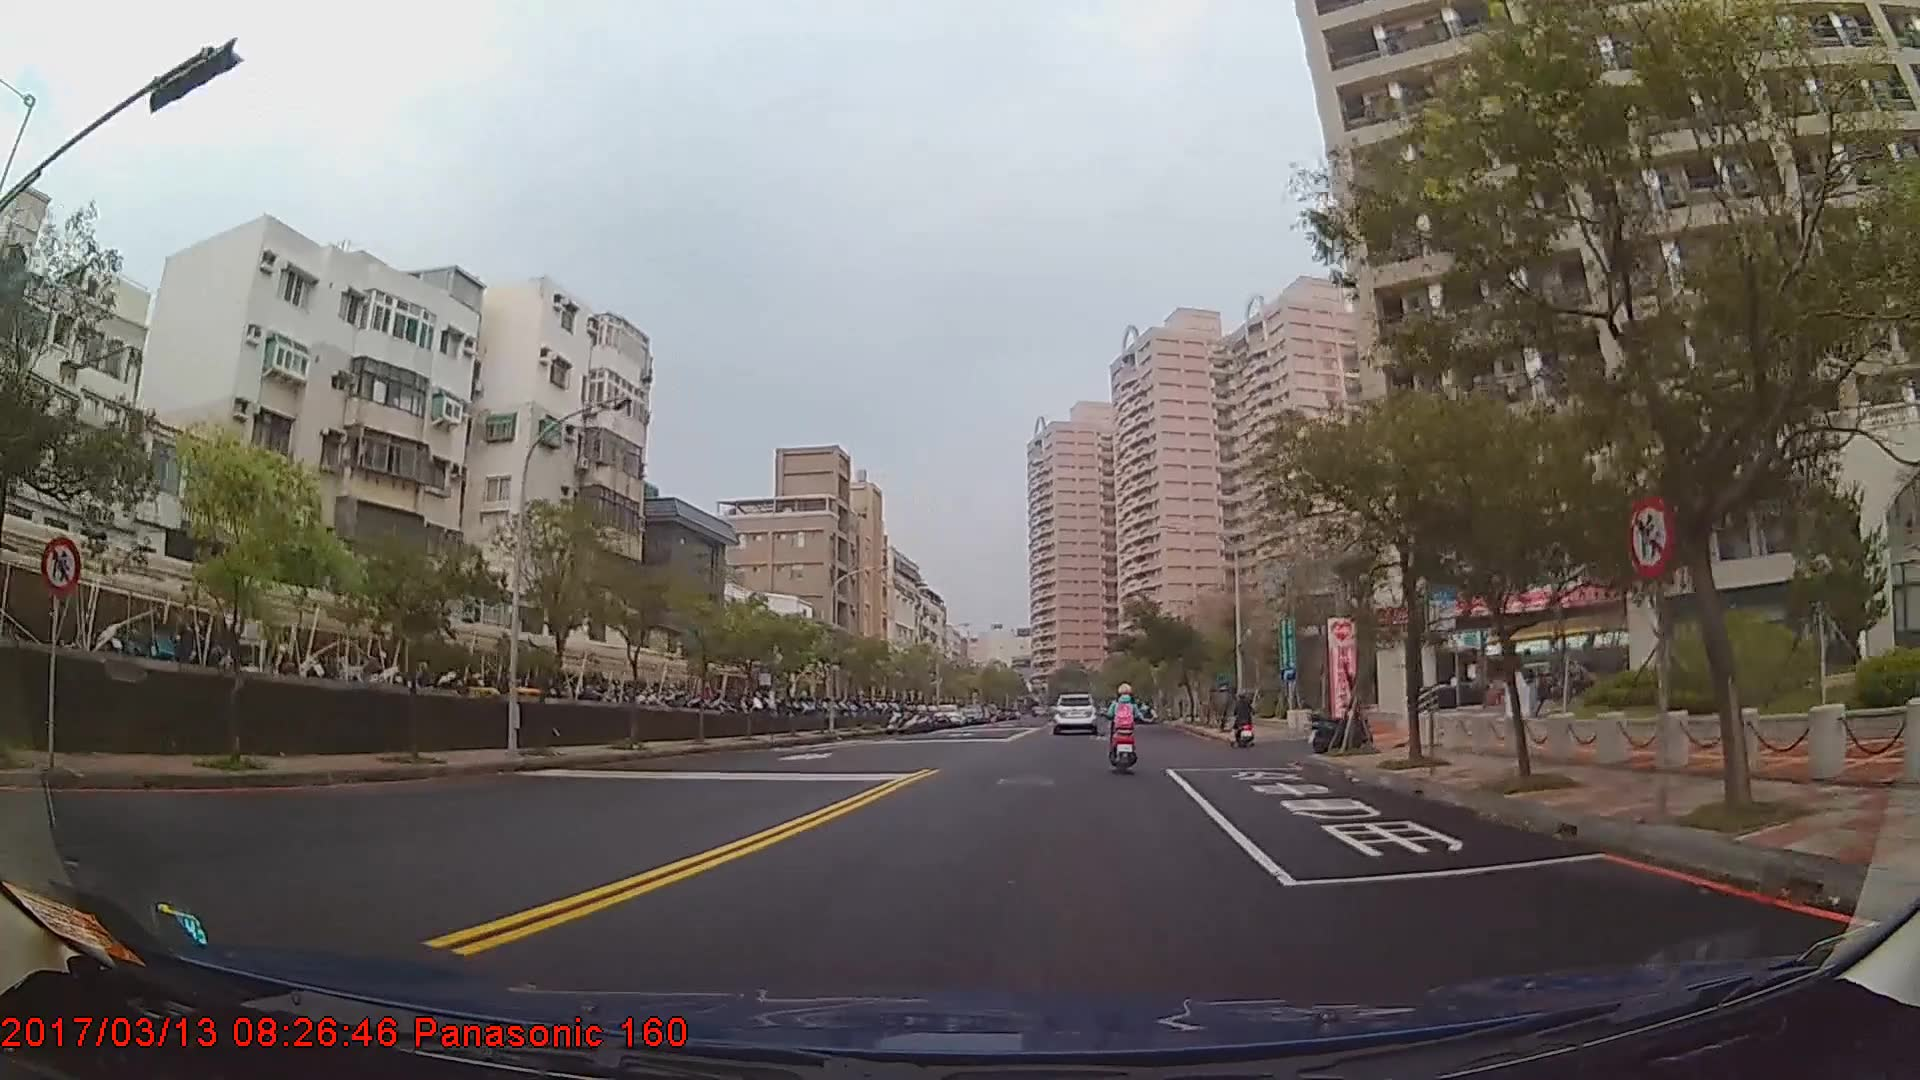rider: (1106, 678, 1150, 762), (1233, 692, 1256, 746)
vehicle: (1050, 693, 1096, 734)
